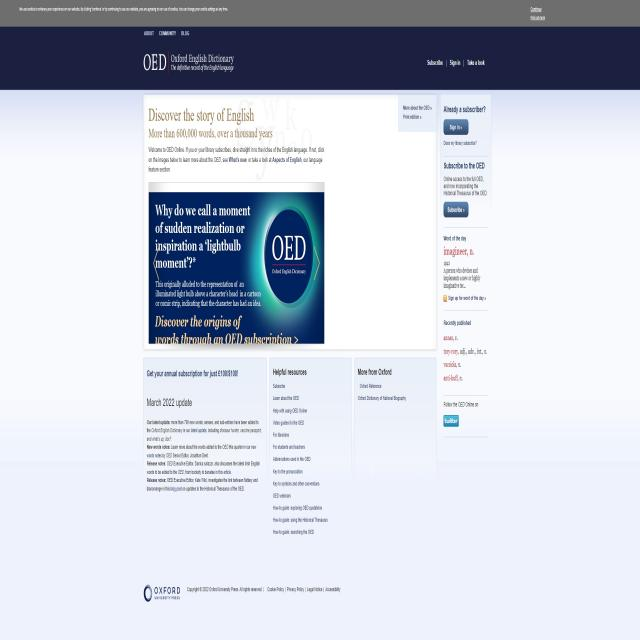menu-bar: (422, 53, 489, 75), (138, 27, 192, 40)
side-panel: (442, 95, 501, 452)
